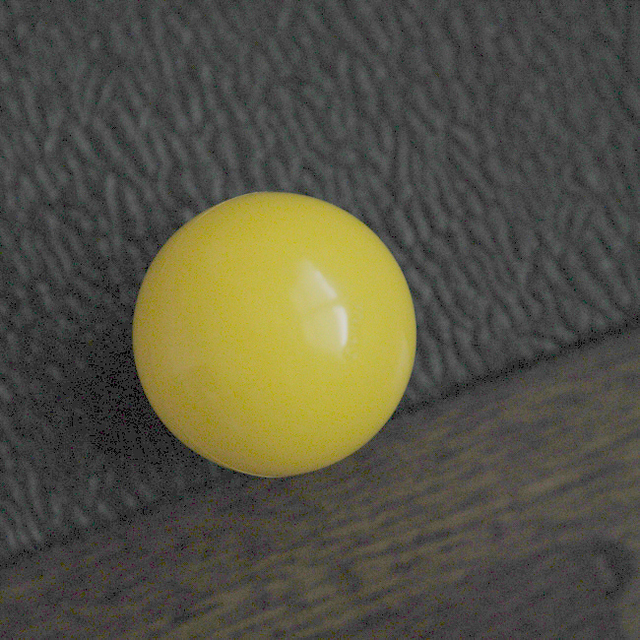Ball: (128, 193, 417, 480)
